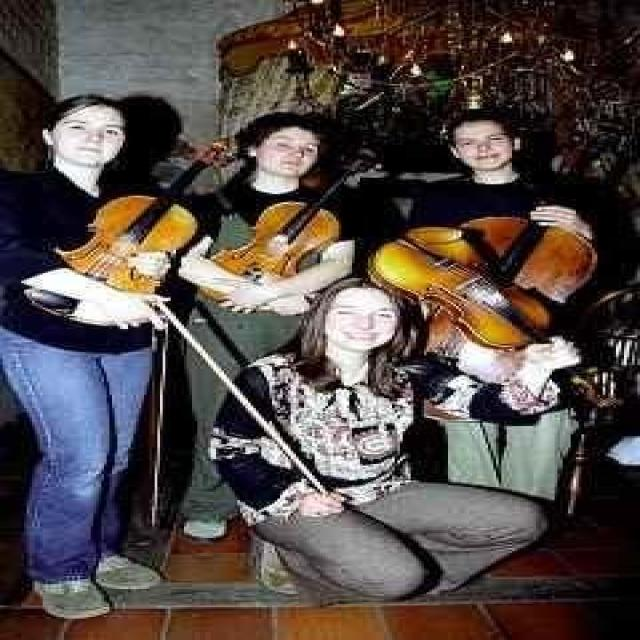cello: (402, 130, 616, 365)
violin: (370, 236, 618, 404), (21, 137, 234, 311), (201, 155, 379, 307)
